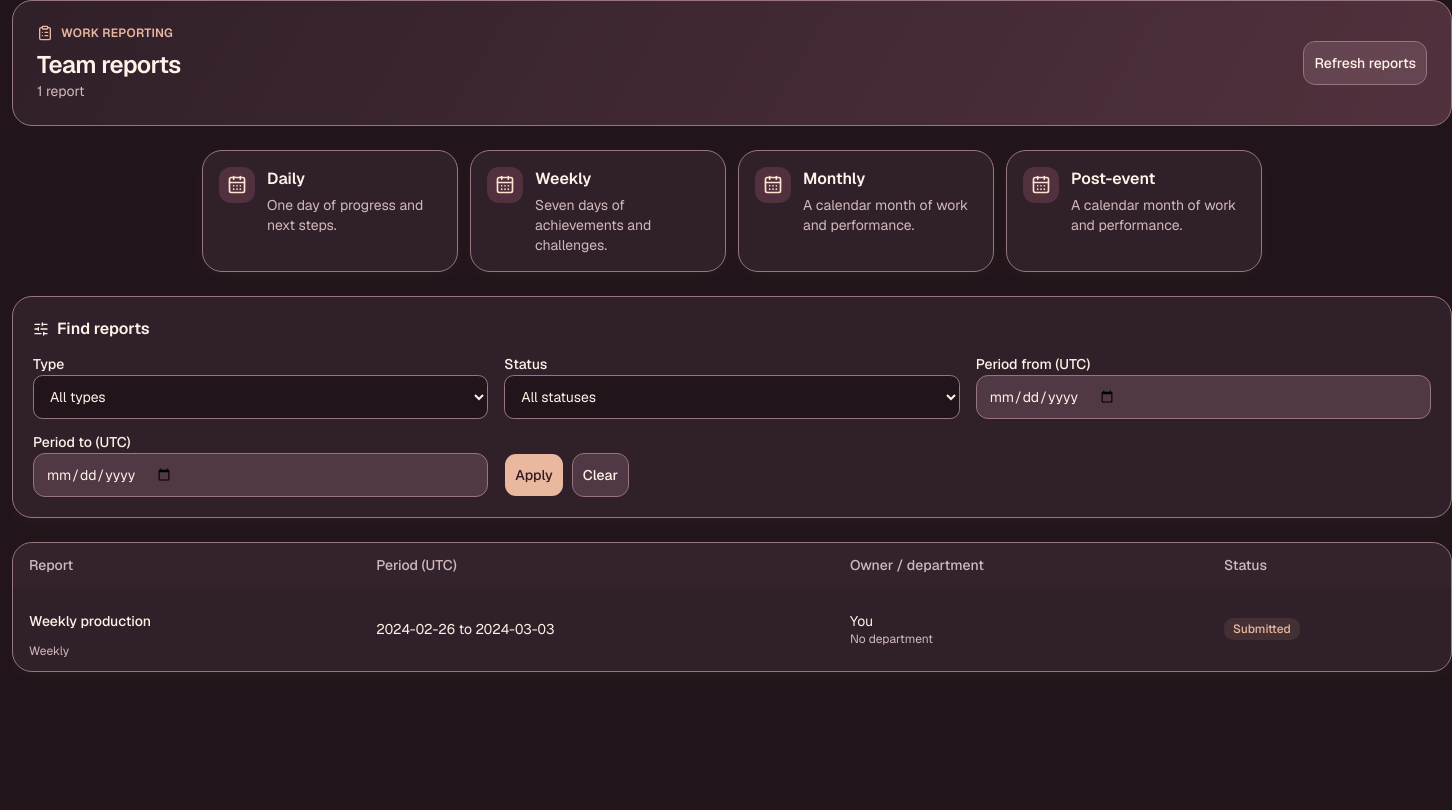
it: ReportsManager › does not show metrics when the server denies a selected report
Check: the text "1 report" is shown, box [37, 82, 84, 100]
Click the button "Weekly production": [90, 621] box [29, 599, 151, 643]
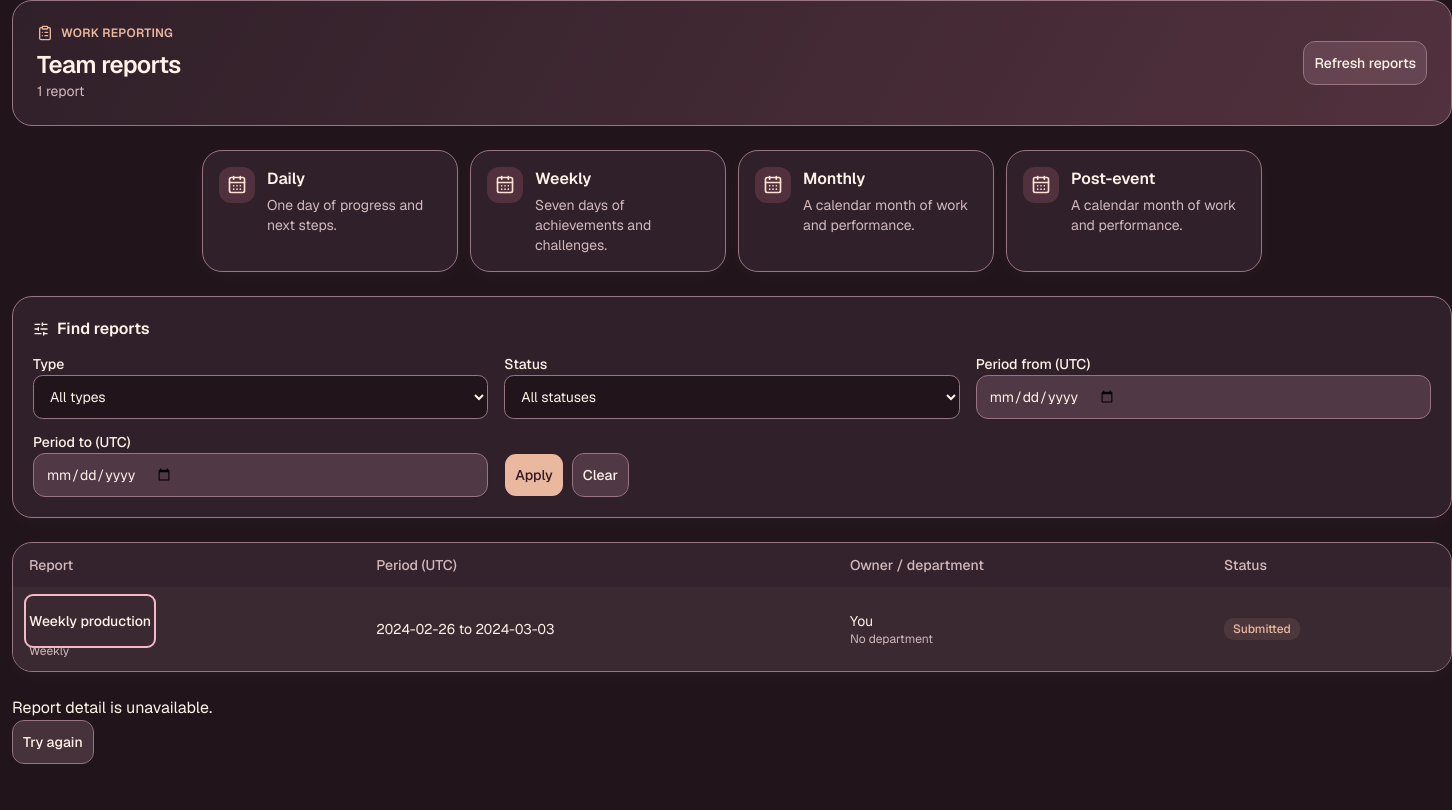
Check: the message shows "Report detail is unavailable", box [12, 697, 212, 718]
